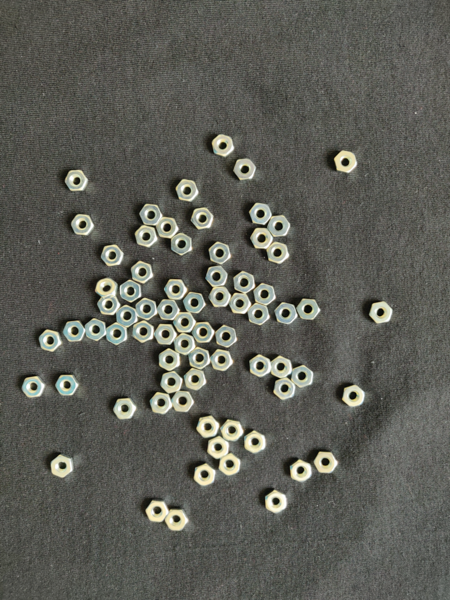nut: (51, 454, 74, 478), (335, 150, 358, 174), (176, 179, 199, 203), (146, 500, 169, 523), (197, 416, 220, 439), (343, 385, 366, 408), (39, 330, 62, 353), (208, 242, 231, 265), (267, 242, 290, 265), (249, 203, 272, 226), (165, 509, 189, 531), (265, 490, 287, 514), (207, 436, 229, 460), (189, 347, 211, 371), (274, 303, 298, 325), (65, 170, 89, 192), (267, 216, 291, 238), (212, 134, 234, 158), (21, 377, 46, 398), (194, 464, 216, 487), (290, 460, 312, 483), (220, 453, 242, 476), (113, 399, 136, 421), (150, 393, 173, 415), (172, 391, 195, 413), (271, 356, 293, 379), (249, 355, 271, 378), (161, 371, 183, 394), (184, 368, 206, 391), (159, 349, 181, 372), (174, 333, 196, 356), (135, 298, 158, 320), (116, 305, 138, 328), (120, 280, 142, 303), (370, 302, 393, 324), (248, 303, 270, 326), (205, 266, 228, 288), (131, 261, 153, 284), (101, 245, 124, 267), (71, 215, 94, 237), (135, 226, 158, 248), (156, 217, 179, 239), (251, 228, 274, 250), (233, 159, 256, 181), (314, 453, 338, 474), (297, 299, 321, 320), (183, 293, 207, 314), (221, 420, 243, 442), (274, 378, 296, 400), (292, 366, 314, 388), (211, 350, 233, 372), (63, 321, 85, 343), (215, 326, 237, 348), (96, 278, 118, 300), (254, 284, 276, 306), (234, 272, 256, 294), (192, 208, 214, 230), (245, 431, 266, 454), (85, 319, 106, 342), (106, 323, 127, 346), (133, 321, 154, 344), (157, 300, 180, 321), (171, 233, 192, 256), (140, 205, 163, 226), (173, 313, 197, 333), (164, 280, 188, 300), (155, 325, 177, 346), (229, 293, 251, 314), (209, 287, 231, 308), (56, 376, 79, 396), (98, 296, 121, 316), (193, 323, 214, 344)
